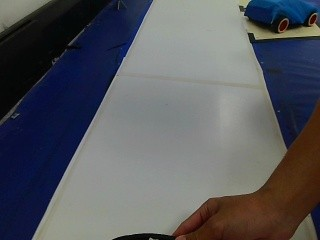car: (239, 0, 318, 33)
